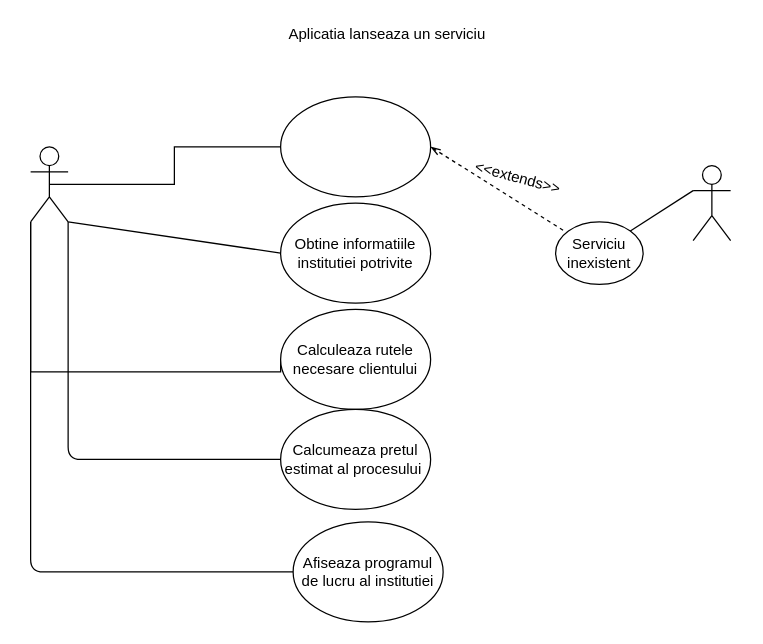
Some shapes in this 763 by 644 pixel diagram are drawn without their labels. Each missing label, with the centre of its shape:
"Aplicatie" goes at pixel 48 184.
"Cautare servicii institutii guvernamentale" goes at pixel 355 146.
"Utilizator" goes at pixel 711 202.
